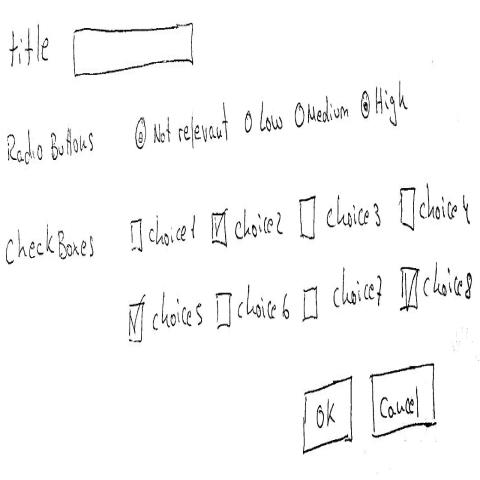Button: (371, 359, 438, 443), (303, 368, 355, 460)
Check Box: (299, 188, 383, 250), (398, 251, 474, 314), (303, 268, 384, 325), (128, 288, 207, 346), (211, 198, 285, 255), (214, 286, 292, 333), (400, 171, 461, 231), (129, 208, 198, 255)
Heading: (9, 21, 52, 73)
Radio Button: (134, 99, 230, 156), (360, 78, 410, 131)
Textbox: (72, 19, 196, 81)
